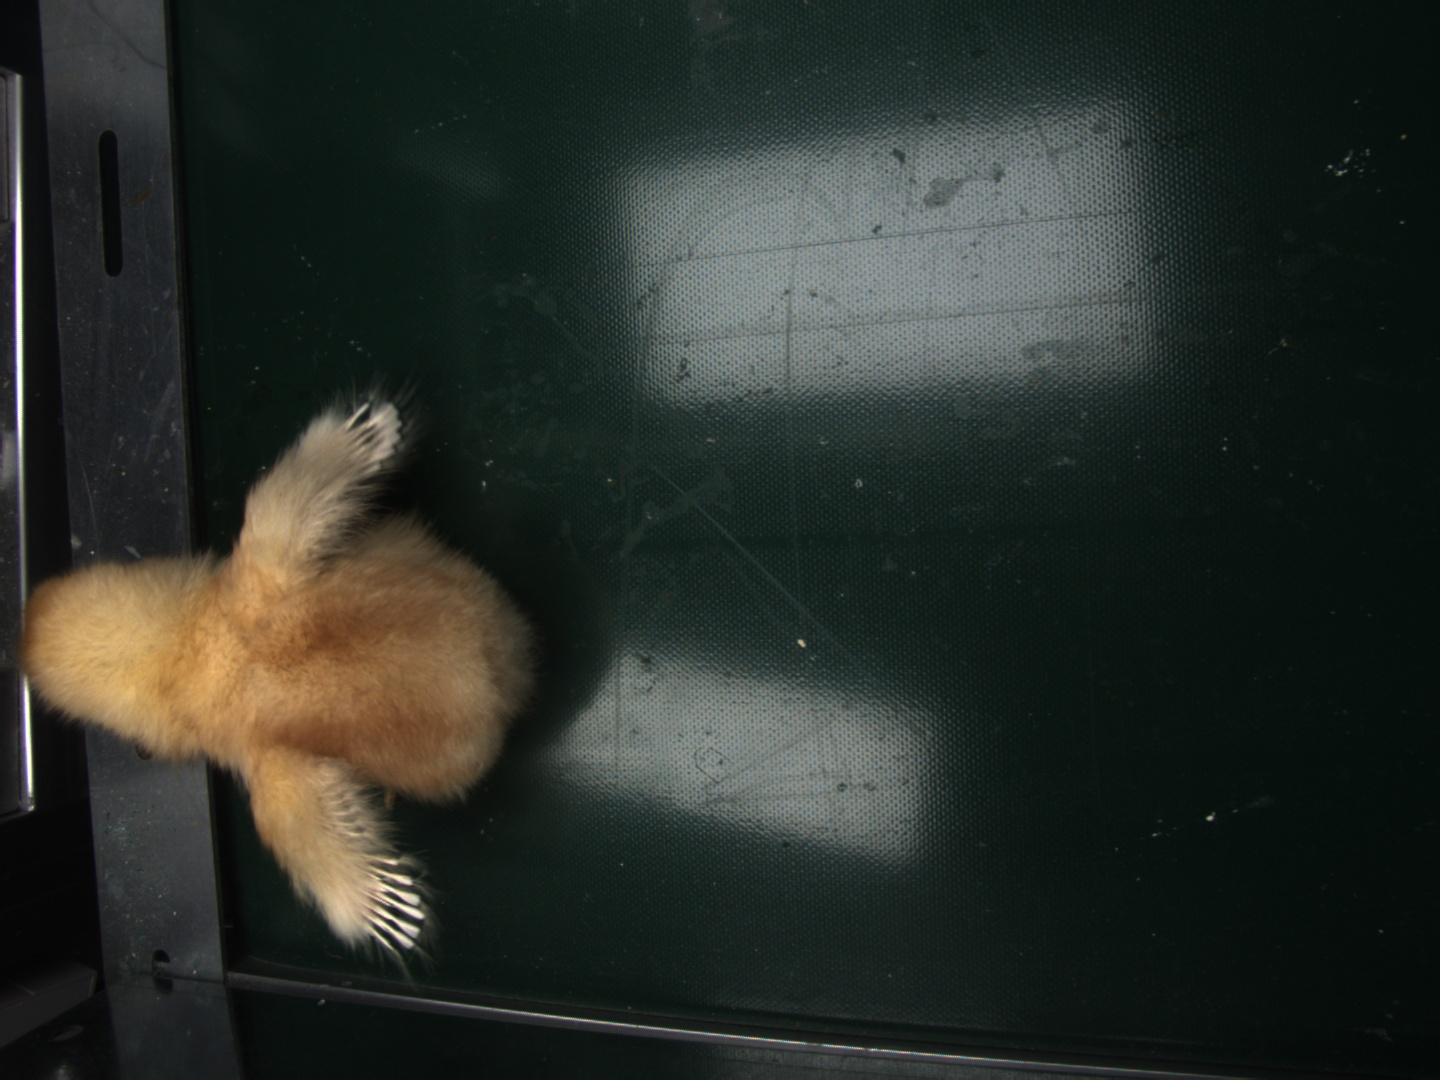female: (356, 855, 427, 962)
